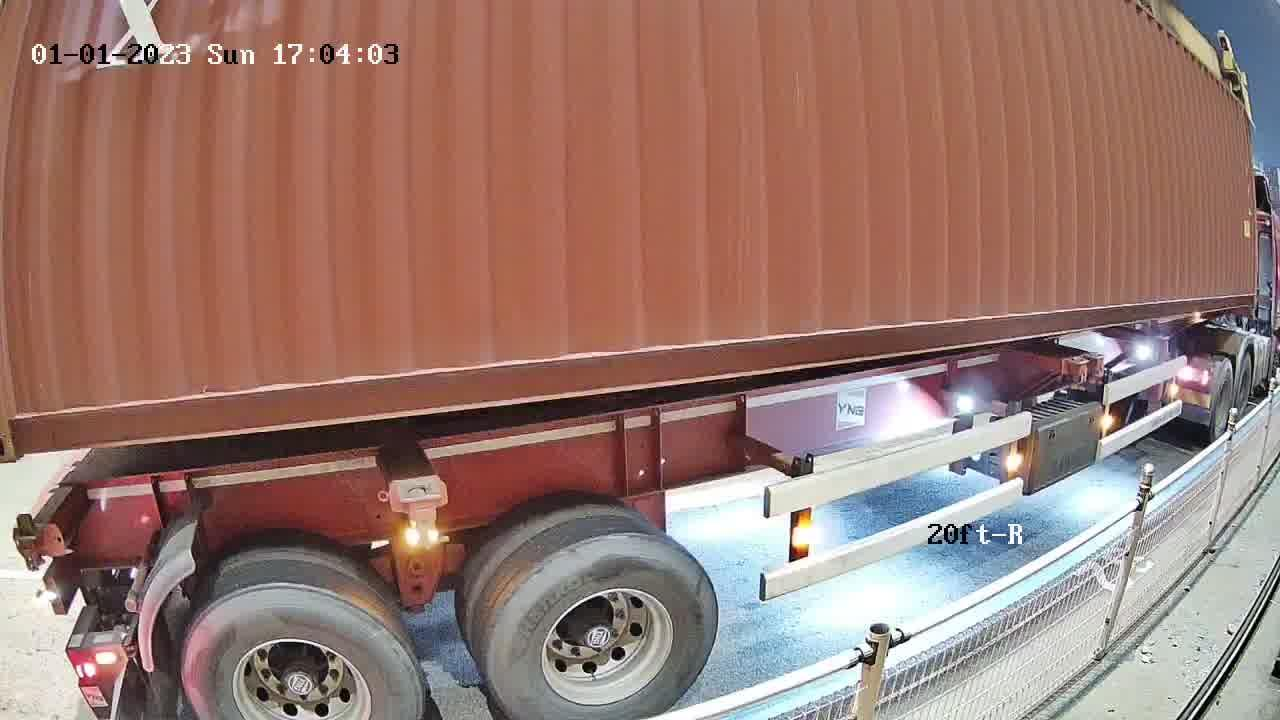Cone: (10, 510, 50, 573)
Hole_L: (0, 366, 67, 462)
Tire: (488, 536, 717, 719), (181, 588, 423, 714)
